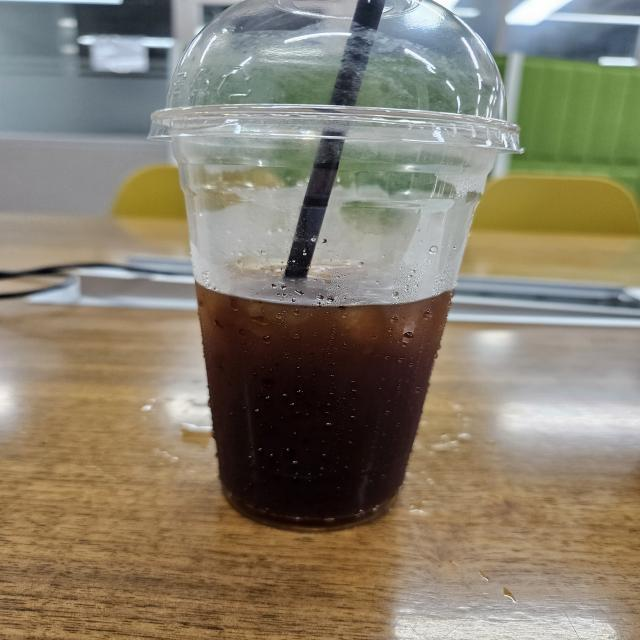cup: (140, 88, 527, 537)
